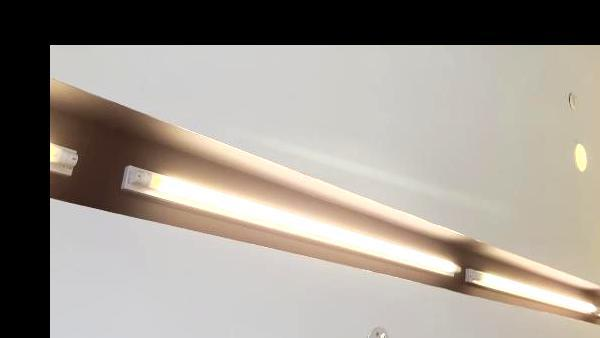light_on: (116, 158, 461, 294), (463, 241, 600, 327), (50, 133, 89, 185)
